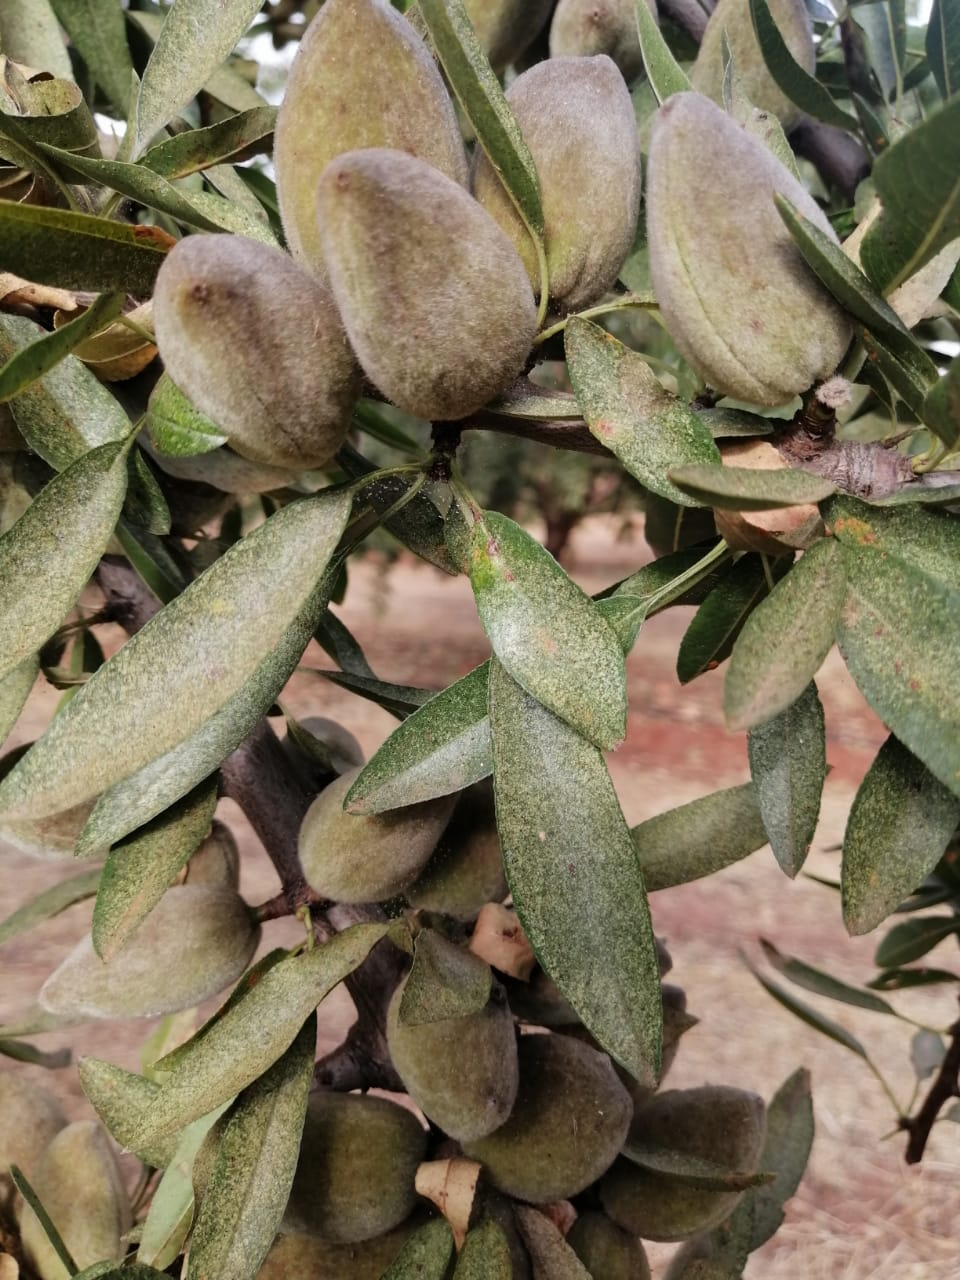acariens: (1, 483, 361, 819), (487, 652, 664, 1095), (118, 921, 392, 1154), (468, 503, 630, 749), (186, 1011, 315, 1280), (563, 306, 721, 506), (1, 434, 132, 675), (722, 533, 849, 734)
